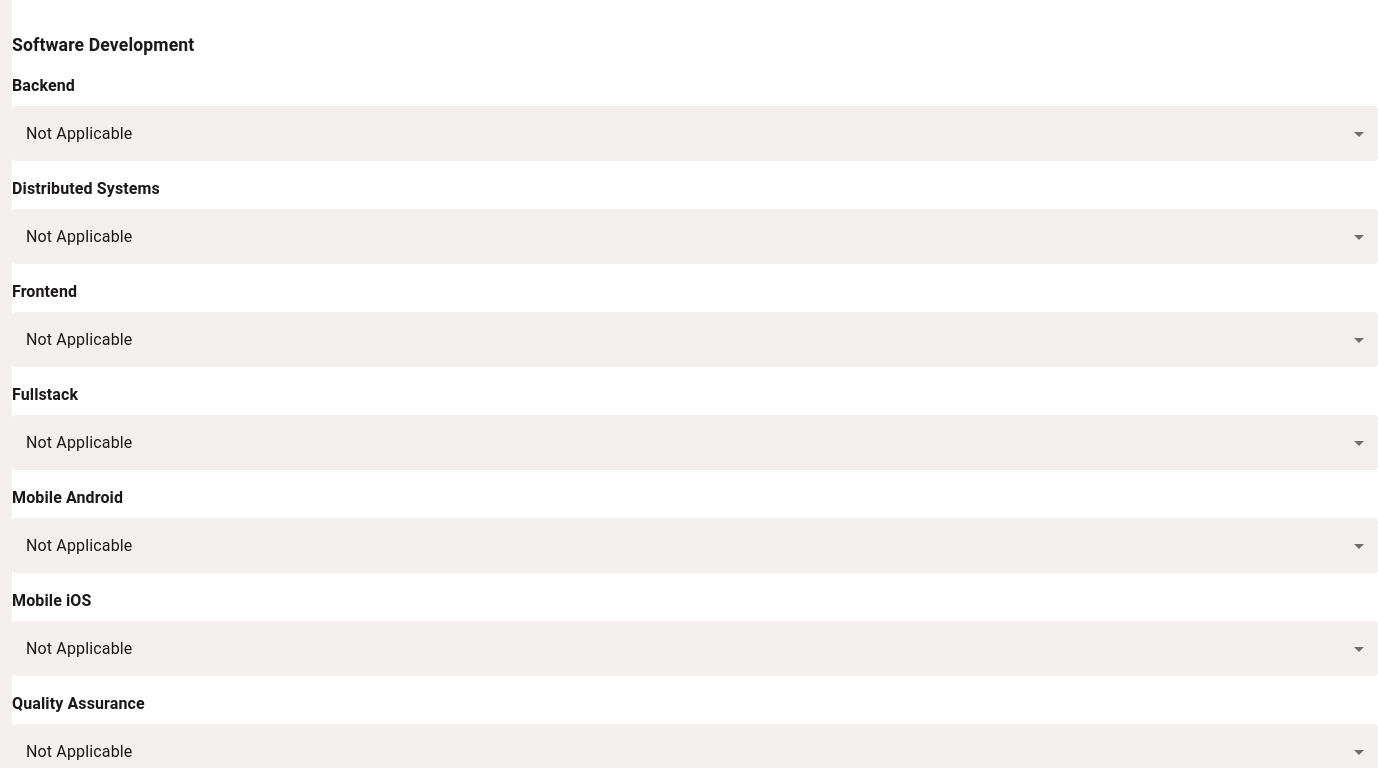
Test: SkillsWithProficiency › shows proficiency level labels in each dropdown
The width and height of the screenshot is (1378, 768).
Note: Open the first select (Backend area)
Press the mouse on the dropdown labelled "Not Applicable" below "Backend" at (79,134), box [26,124,132,143]
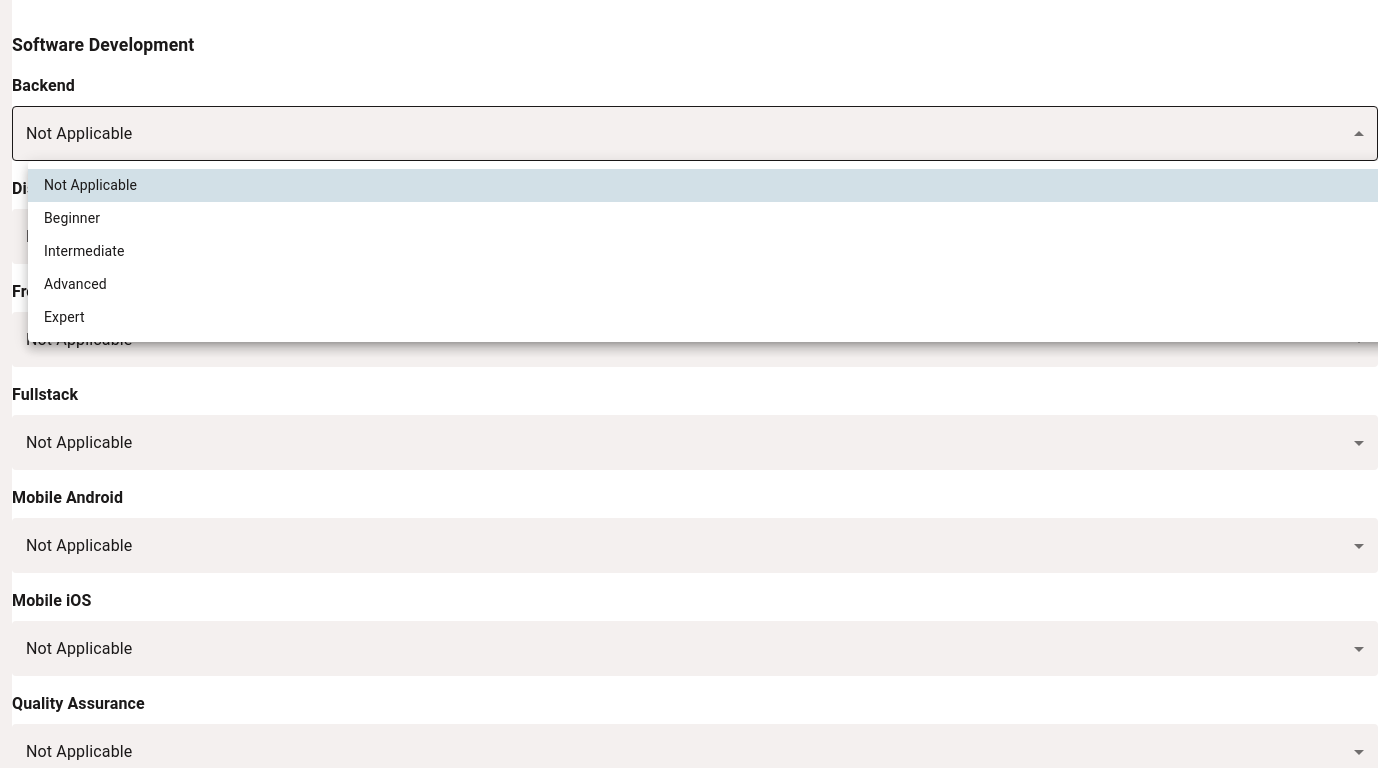
expect the option "Beginner" is shown: met, box [44,210,100,226]
expect the option "Intermediate" is shown: met, box [44,243,124,259]
expect the option "Advanced" is shown: met, box [44,276,107,292]
